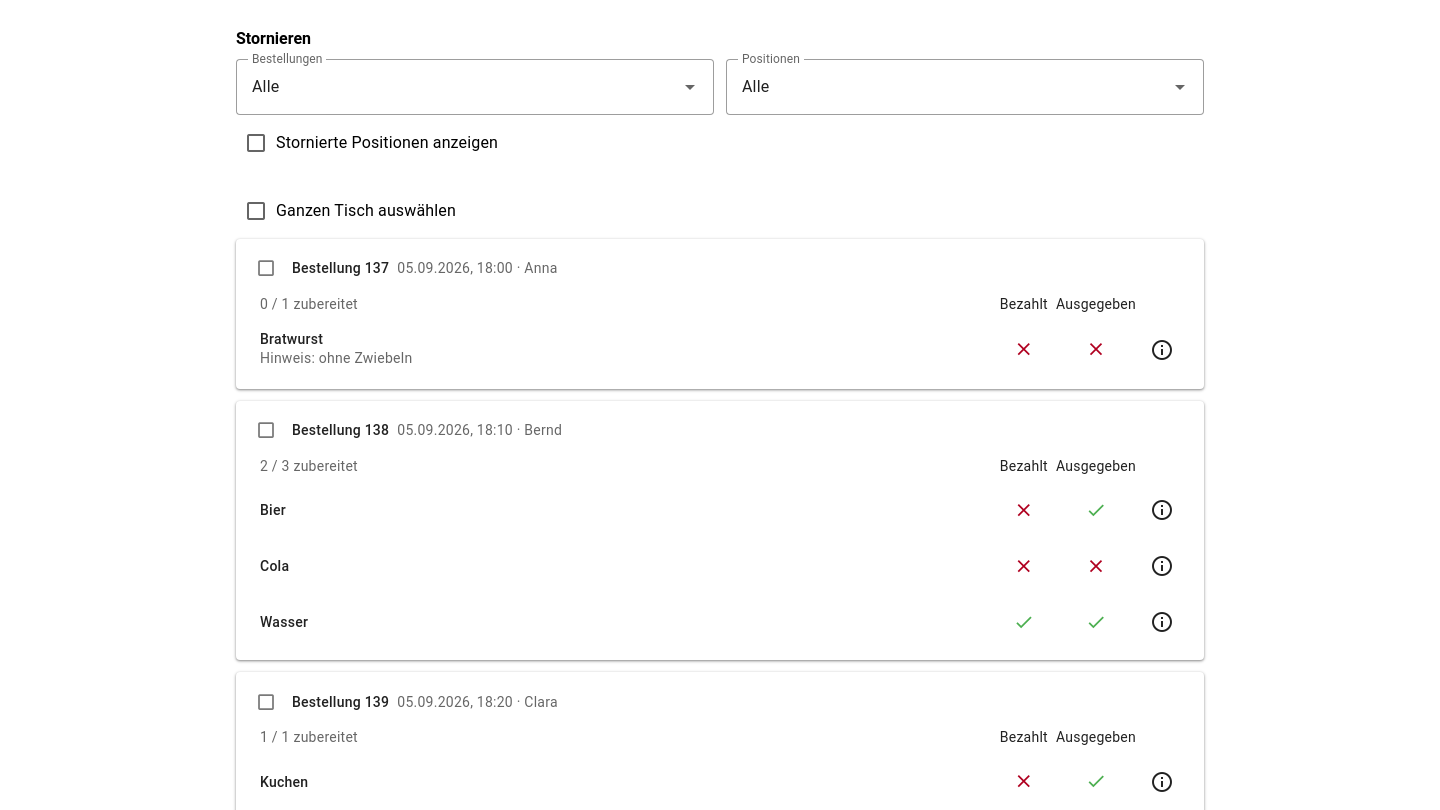
Test case: the page that confirms the cancellation › says how much cash the guest gets back when a paid item is among them
This screenshot has width=1440, height=810.
Click the element showing "Bratwurst Hinweis: ohne Zwiebeln": (292, 339) [252,326,1188,373]
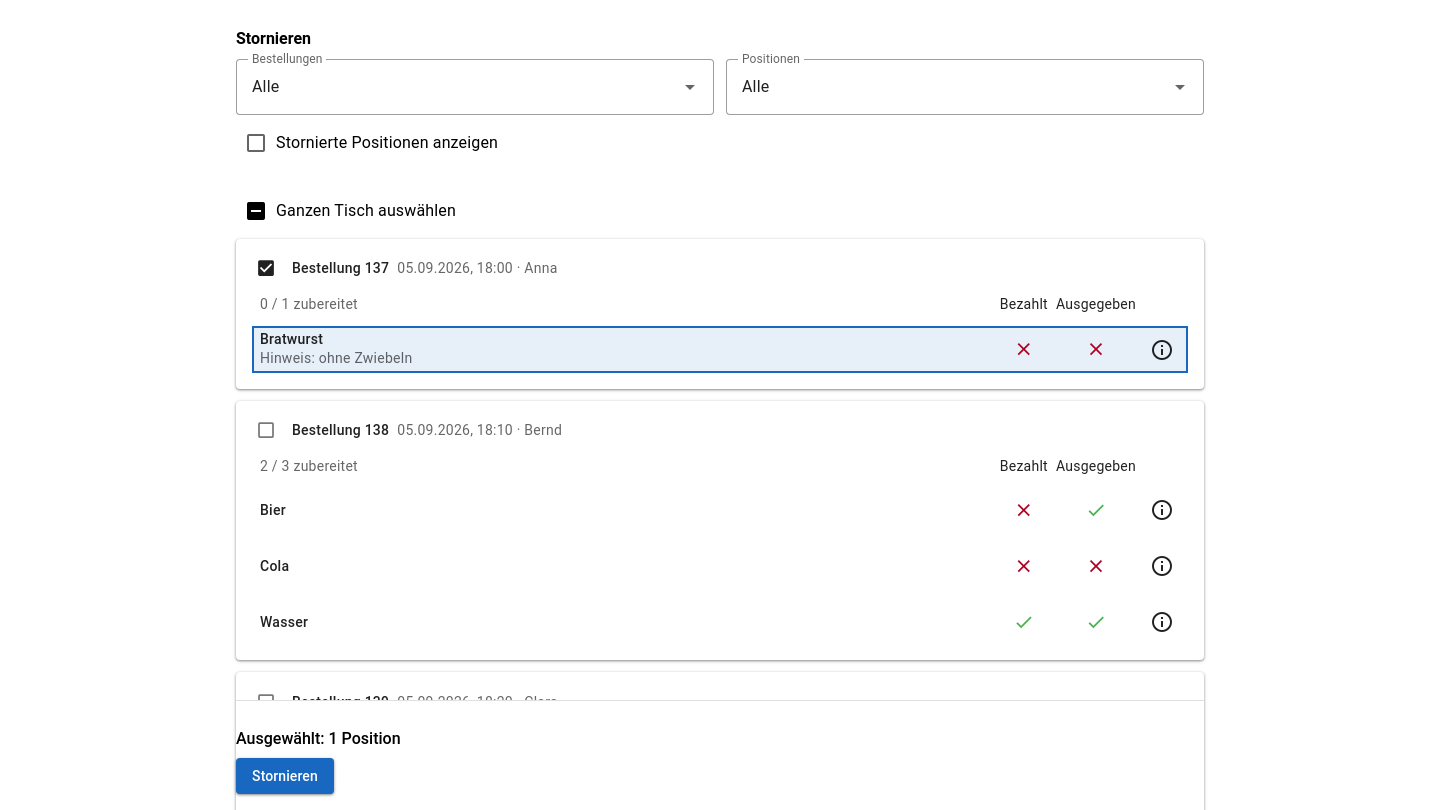
Click the element showing "Wasser": (284, 622) [252,600,1188,644]
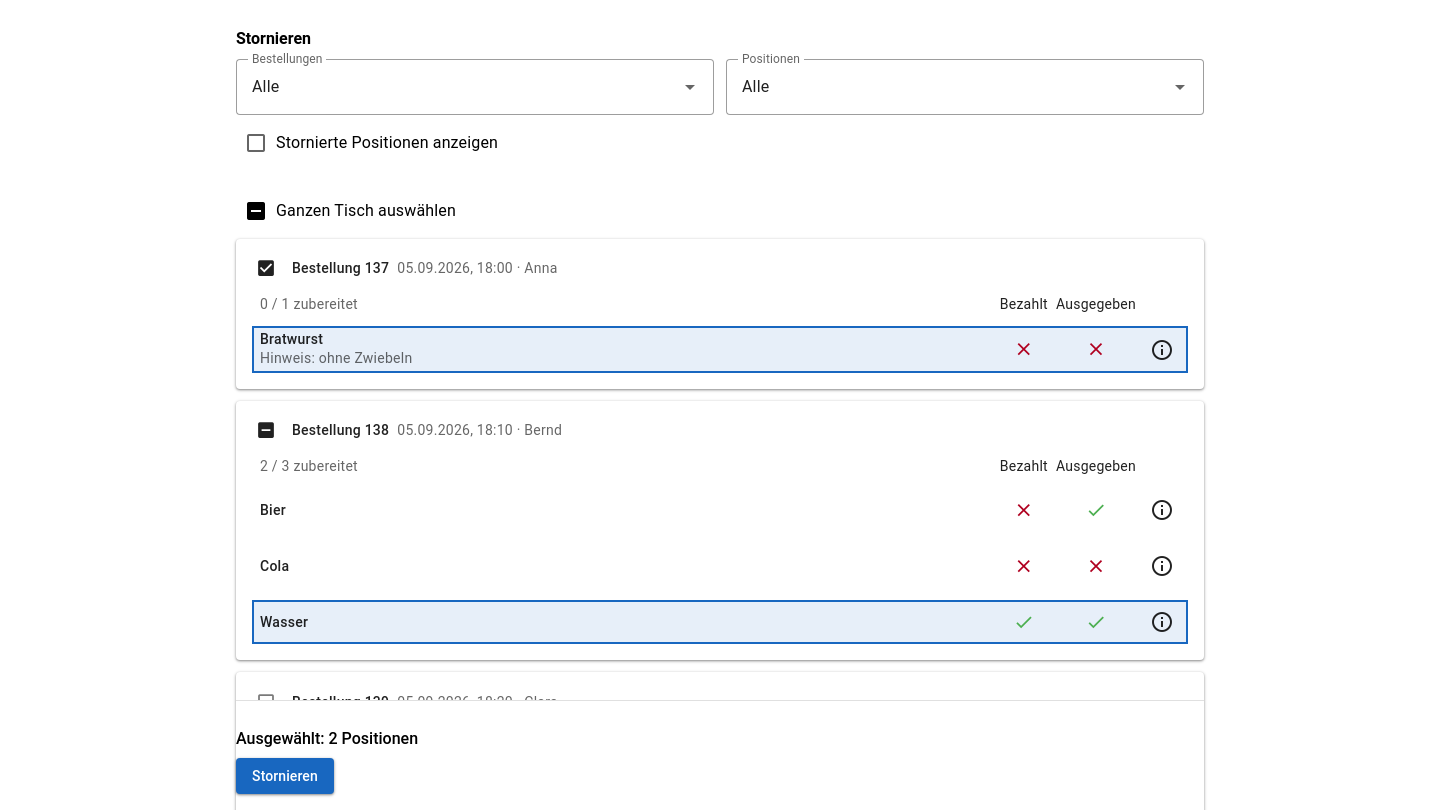
Click the button with test id "cancel-items": (285, 776) [236,758,334,794]
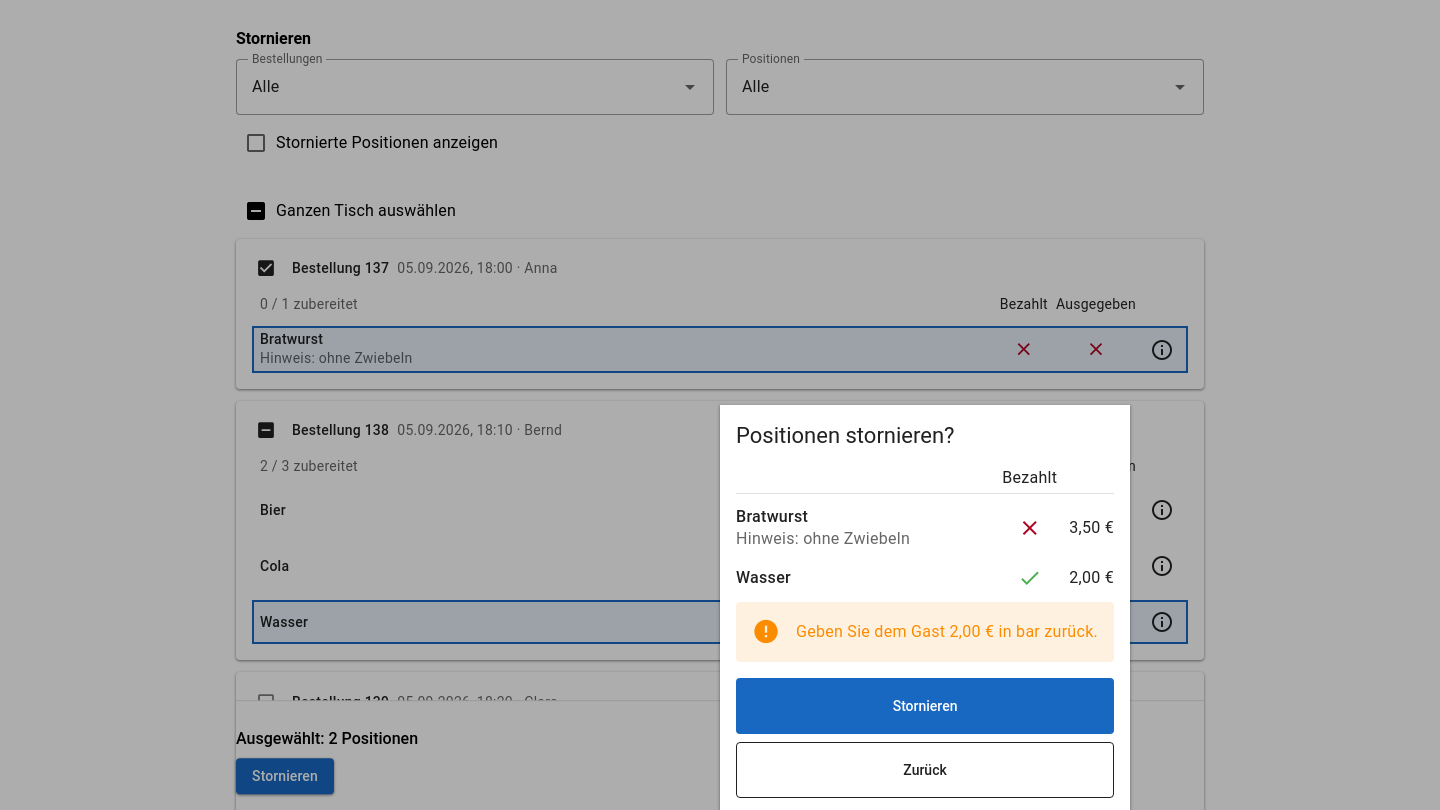
Expected: the text "Geben Sie dem Gast 2,00 € in bar zurück." is shown, [796,619,1098,645]
